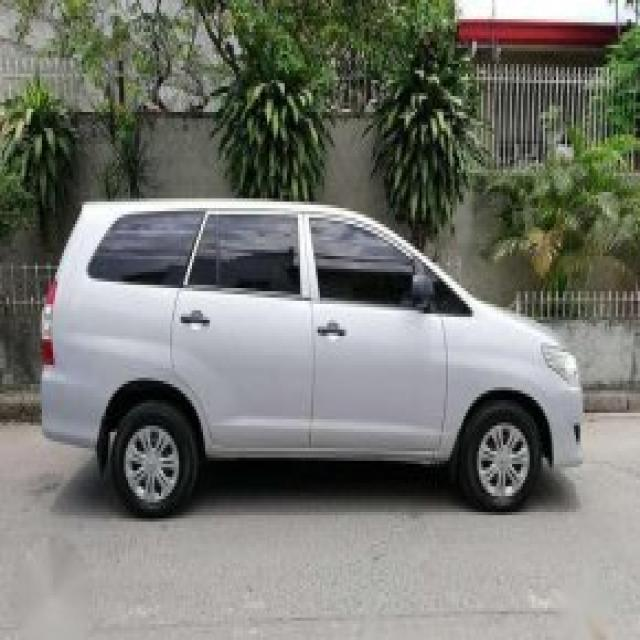light_vehicle: (39, 198, 586, 518)
